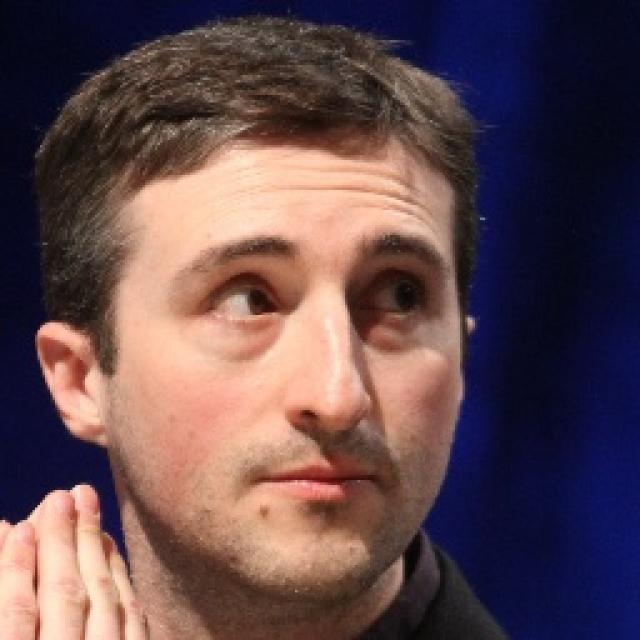earlobe: (72, 412, 108, 446)
eye: (212, 281, 285, 322), (363, 279, 423, 317)
nose: (290, 417, 366, 461)
wholeear: (32, 320, 108, 446)
